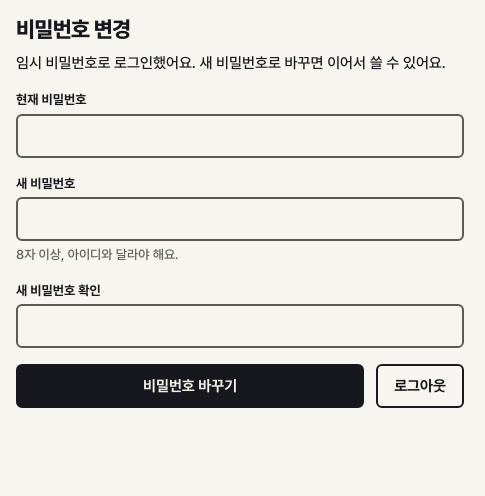
로그아웃 실패 › 네트워크 오류면 세션과 캐시를 그대로 두고 문구를 보여준다
Click the button "로그아웃". click: (420, 386)
box: x1=376 y1=364 x2=464 y2=408
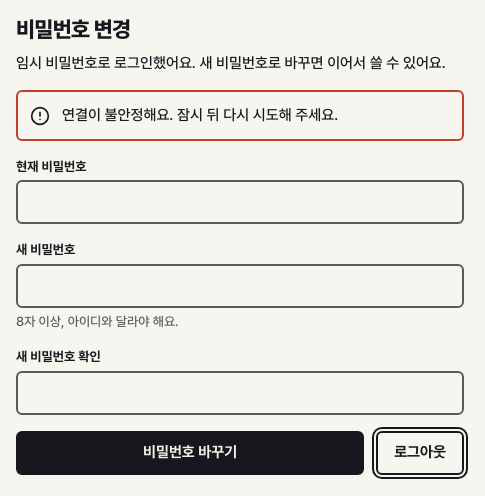
Expected: the heading "비밀번호 변경" is shown, x1=16 y1=16 x2=130 y2=42
Expected: the text "연결이 불안정해요. 잠시 뒤 다시 시도해 주세요." is shown, x1=62 y1=106 x2=338 y2=124
